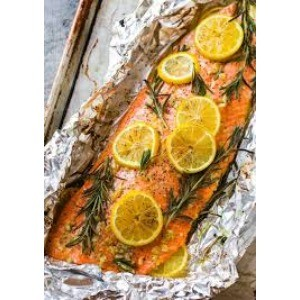salmon_brain food: (97, 63, 239, 261)
